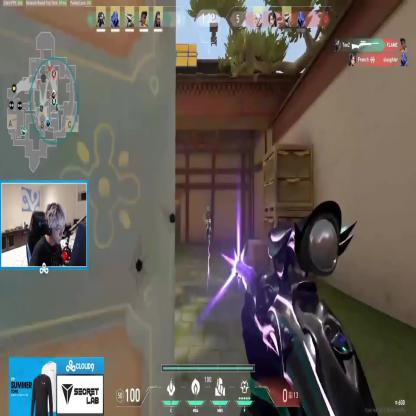enemy: (206, 212, 212, 246)
enemy_head: (207, 213, 210, 219)
